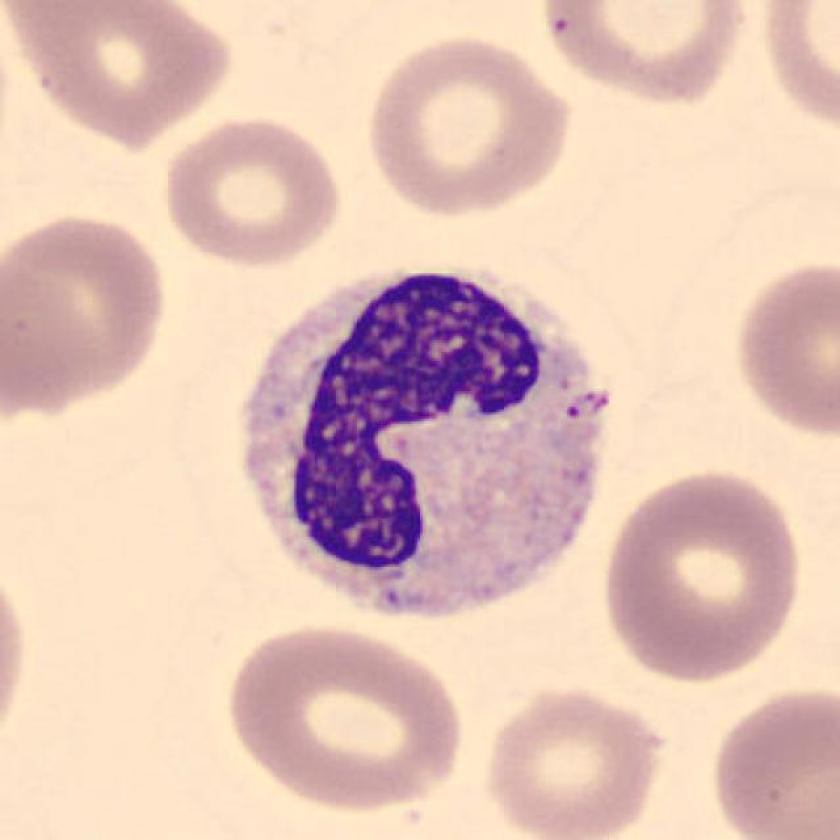neutrophil: (241, 273, 602, 615)
